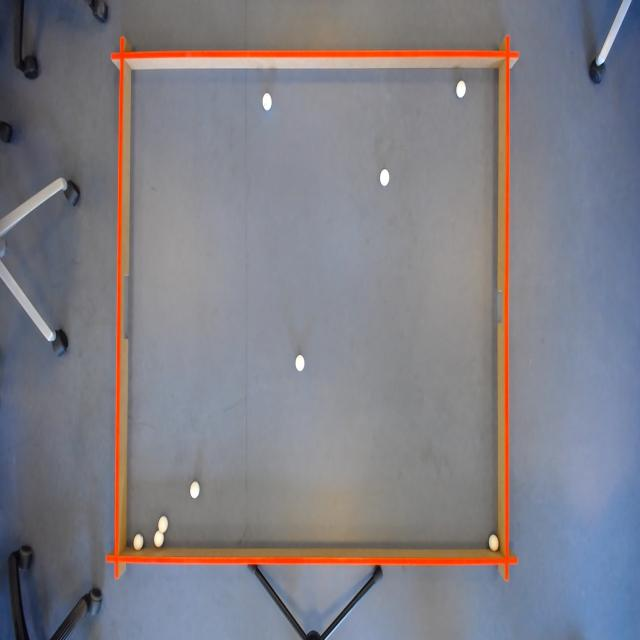white_ball: (260, 89, 274, 114), (188, 477, 201, 503), (131, 530, 145, 554), (486, 531, 500, 555), (454, 76, 467, 100), (379, 167, 391, 190), (293, 352, 306, 373), (157, 514, 169, 534), (152, 529, 164, 549)
